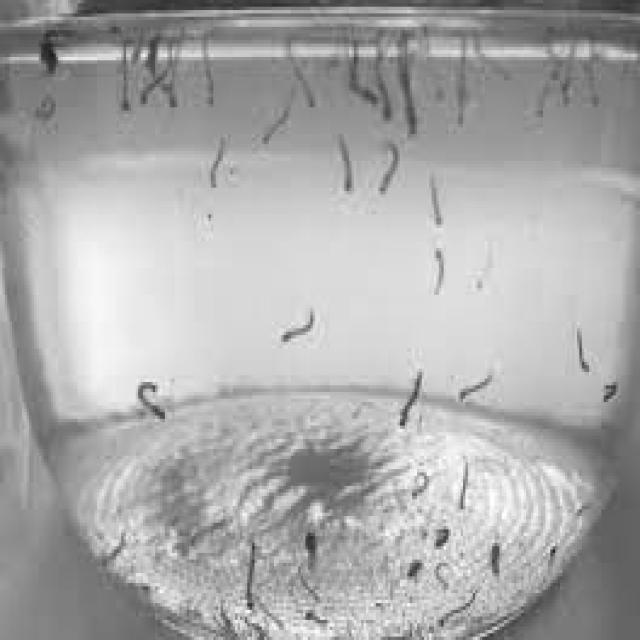larvas: (533, 42, 566, 119), (142, 40, 176, 106), (282, 46, 317, 110), (396, 34, 418, 134), (346, 42, 377, 106), (145, 41, 176, 104), (373, 41, 392, 120), (399, 370, 425, 427), (474, 41, 510, 82), (454, 39, 470, 127), (439, 593, 479, 628), (542, 55, 572, 101), (262, 109, 292, 147), (190, 518, 230, 546), (138, 379, 164, 421), (458, 372, 496, 399), (120, 39, 134, 112), (204, 36, 217, 114), (283, 311, 314, 343), (338, 135, 354, 194), (379, 147, 398, 196), (244, 544, 258, 608), (297, 570, 321, 604), (210, 134, 223, 190), (431, 174, 443, 227), (432, 248, 445, 294), (411, 471, 432, 498), (460, 457, 470, 512), (432, 526, 452, 552), (578, 325, 589, 371), (436, 562, 449, 590), (304, 534, 316, 564), (491, 544, 501, 578), (602, 384, 618, 403)
